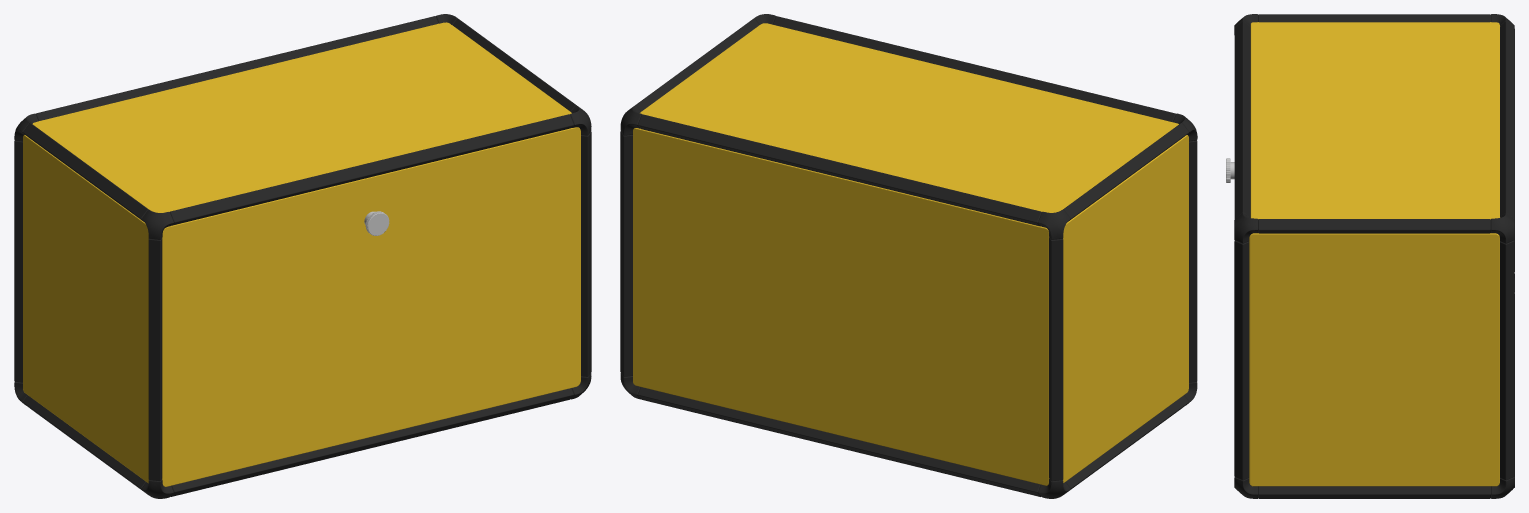
3 renders of one model, left to right at view 1: azimuth 30°, elevation 25°; view 2: azimuth 150°, elevation 25°; view 3: azimuth 270°, elevation 25°, orthographic.
Visible parts, largest first — view 1: 729x374x375; view 2: 729x374x375; view 3: 729x374x375.
Boxes of the visible parts, left/top/right/bottom form: 729x374x375: left=14, top=14, right=591, bottom=498; 729x374x375: left=620, top=14, right=1197, bottom=498; 729x374x375: left=1226, top=14, right=1514, bottom=498.
Bounding box in the file's own units: 0.8067 × 0.4977 × 0.4646.
